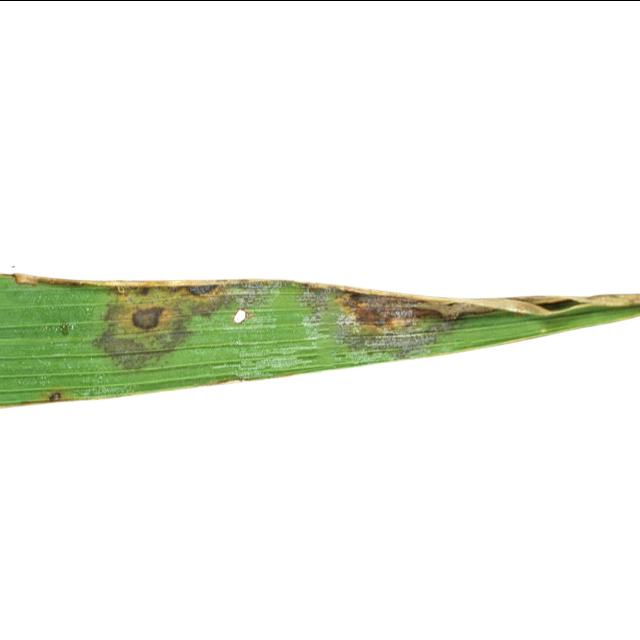Leaf scald: (0, 105, 640, 488)
